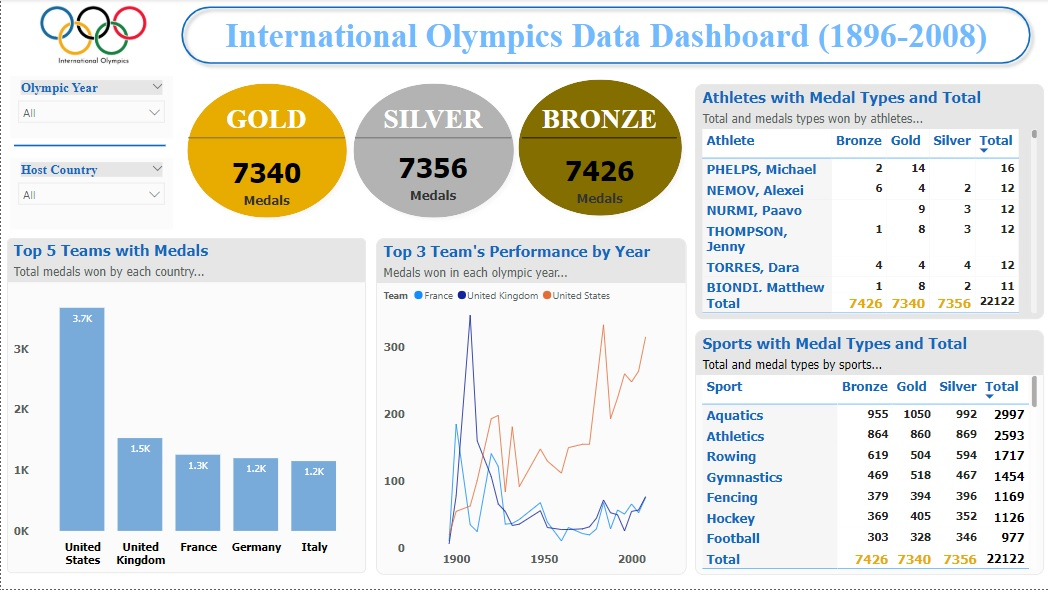

Layout of this report page (visuals, bound fields, positions):
{"tool":"powerbi","page":{"name":"Page 1","canvas":[1280,720],"ordinal":0},"visuals":[{"type":"image","box":[0,0,224.5,87.9],"z":0},{"type":"slicer","fields":{"Values":["sio_120Y_final.Country"]},"box":[11,194,198.9,86.6],"z":1000},{"type":"shape","box":[15.9,169.6,185.5,18.3],"z":2000},{"type":"textbox","box":[224.3,0,1055.7,67.4],"z":3000},{"type":"shape","box":[210.6,0,1054.3,88.1],"z":4000},{"type":"slicer","title":"Edition","fields":{"Values":["sio_120Y_final.Edition"]},"box":[11,94,198.9,75.7],"z":5000},{"type":"shape","box":[218.9,93.4,212.7,182],"z":6000},{"type":"shape","box":[420.5,93.4,213.9,182],"z":7000},{"type":"shape","box":[622.2,88.5,217.6,184.4],"z":8000},{"type":"card","title":"SILVER","fields":{"Values":["sio_120Y_final.Medal"]},"box":[431.6,126.6,190.6,134],"z":9000},{"type":"card","title":"BRONZE","fields":{"Values":["sio_120Y_final.Medal"]},"box":[635.7,126.6,189.4,141.4],"z":10000},{"type":"card","title":"GOLD","fields":{"Values":["sio_120Y_final.Medal"]},"box":[228.7,126.6,191.8,145.1],"z":11000},{"type":"clusteredColumnChart","title":"Top 5 Teams with Medals","fields":{"Y":["sio_120Y_final.Medal"],"Category":["sio_120Y_final.Team"]},"box":[7.4,291.4,437.7,409.5],"z":12000},{"type":"pivotTable","title":"Sports with Medal Types and Total","fields":{"Rows":["sio_120Y_final.Sport"],"Columns":["sio_120Y_final.Medal"],"Values":["sio_120Y_final.Edition"]},"box":[846.9,403.9,425.9,299],"z":13000},{"type":"lineChart","title":"Top 3 Team''s Performance by Year","fields":{"Category":["sio_120Y_final.Edition"],"Y":["sio_120Y_final.Medal"],"Series":["sio_120Y_final.Team"]},"box":[457.4,291.4,378.7,410.7],"z":14000},{"type":"pivotTable","title":"Athletes with Medal Types and Total","fields":{"Rows":["sio_120Y_final.Athlete"],"Columns":["sio_120Y_final.Medal"],"Values":["sio_120Y_final.Medal"]},"box":[846.9,103.7,425.9,286.8],"z":15000}]}

Visuals, with their boxes in screenshot pixels (x1, y1, x2, y2), scaled from the page's 1280x720 canvas onto the 1054x590 screenshot:
image: x1=0, y1=0, x2=185, y2=72
slicer - sio_120Y_final.Country: x1=9, y1=159, x2=173, y2=230
shape: x1=13, y1=139, x2=166, y2=154
textbox: x1=185, y1=0, x2=1053, y2=55
shape: x1=173, y1=0, x2=1042, y2=72
"Edition" slicer: x1=9, y1=77, x2=173, y2=139
shape: x1=180, y1=77, x2=355, y2=226
shape: x1=346, y1=77, x2=522, y2=226
shape: x1=512, y1=73, x2=692, y2=224
"SILVER" card: x1=355, y1=104, x2=512, y2=214
"BRONZE" card: x1=523, y1=104, x2=679, y2=220
"GOLD" card: x1=188, y1=104, x2=346, y2=223
"Top 5 Teams with Medals" clusteredColumnChart: x1=6, y1=239, x2=367, y2=574
"Sports with Medal Types and Total" pivotTable: x1=697, y1=331, x2=1048, y2=576
"Top 3 Team''s Performance by Year" lineChart: x1=377, y1=239, x2=688, y2=575
"Athletes with Medal Types and Total" pivotTable: x1=697, y1=85, x2=1048, y2=320
